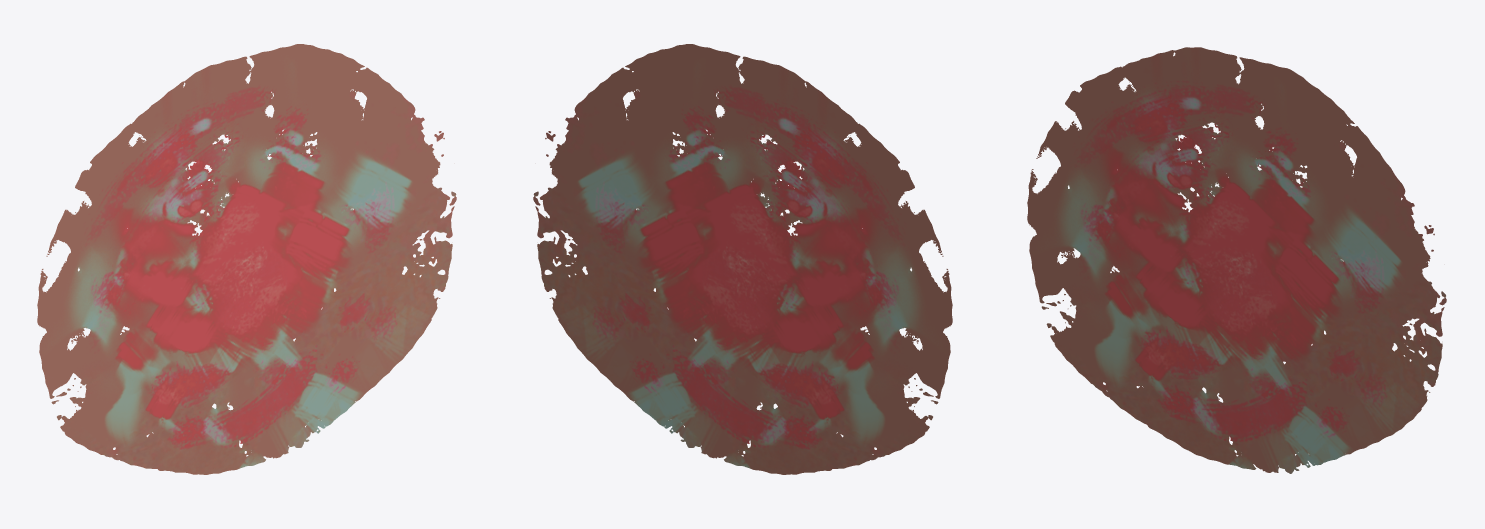
File: ms_redteleportmiddle_static.fbx
3 renders of one model, left to right at view 1: azimuth 30°, elevation 25°; view 2: azimuth 150°, elevation 25°; view 3: azimuth 330°, elevation 25°, orthographic.
Parts seen in each view (by area): view 1: pCylinder1; view 2: pCylinder1; view 3: pCylinder1.
Part boxes in pixels (x1,y1,x2,y2): pCylinder1: (37, 44, 456, 474); pCylinder1: (533, 44, 952, 474); pCylinder1: (1027, 47, 1446, 473).
Bounding box in the file's own units: 84.78 × 82.66 × 0.092.
